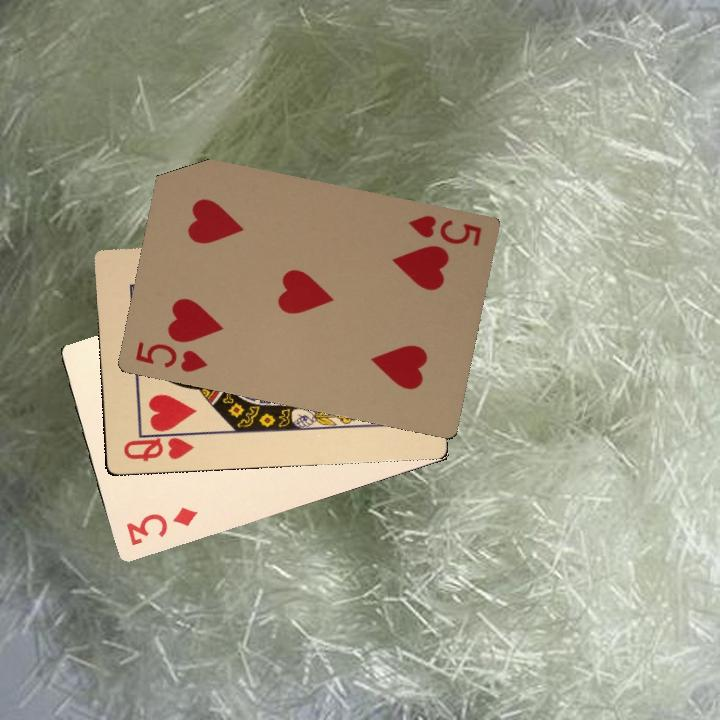3d: (122, 503, 201, 548)
5h: (404, 211, 484, 249), (131, 337, 210, 375)
Qh: (119, 428, 196, 464)
